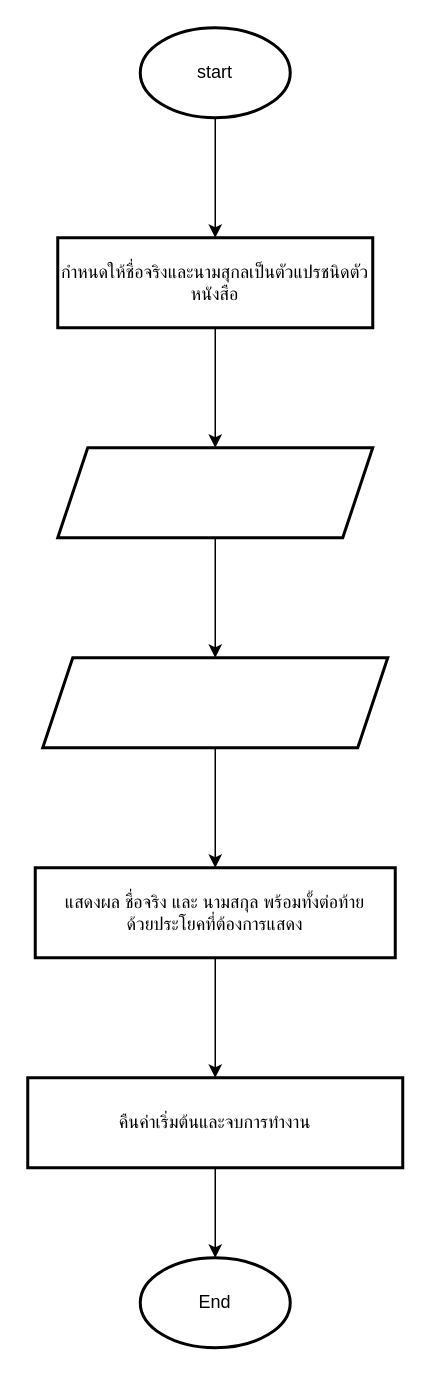
Some shapes in this 429 by 1374 pixel diagram are drawn without their labels. Here are the shapes that lost their labels. From the top down, the centre of each, then its label:
At (215,492): "รับค่า ชื่อจริง".
At (214,702): "รับค่า นามสุกล".
